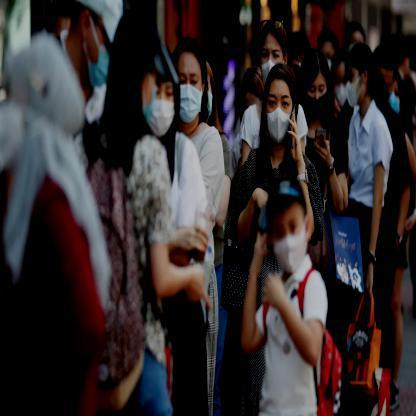with_mask: (62, 1, 127, 93), (116, 10, 158, 129), (269, 178, 314, 274), (263, 63, 303, 151), (171, 35, 203, 121), (298, 50, 334, 122), (255, 17, 290, 91), (344, 44, 381, 113), (149, 49, 176, 138), (202, 56, 220, 126), (330, 54, 351, 111), (316, 31, 338, 73), (386, 66, 404, 117)
